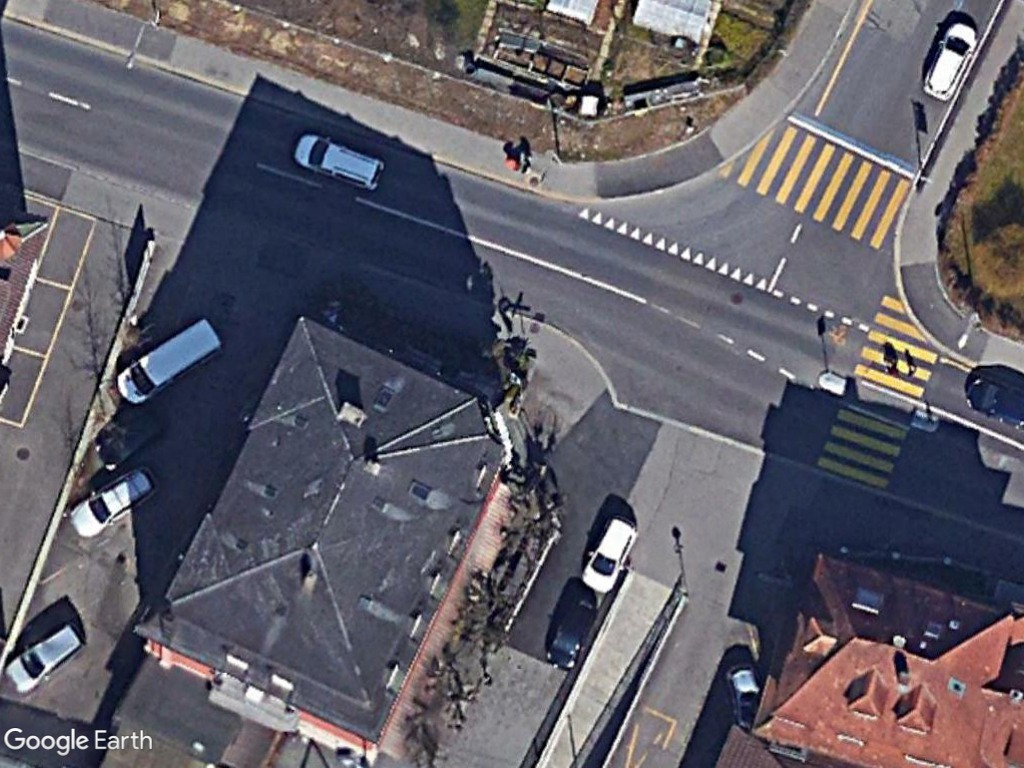car: (69, 459, 160, 538), (5, 619, 87, 696), (291, 131, 388, 192), (920, 20, 981, 102), (580, 514, 639, 595)
van: (112, 315, 227, 405)
